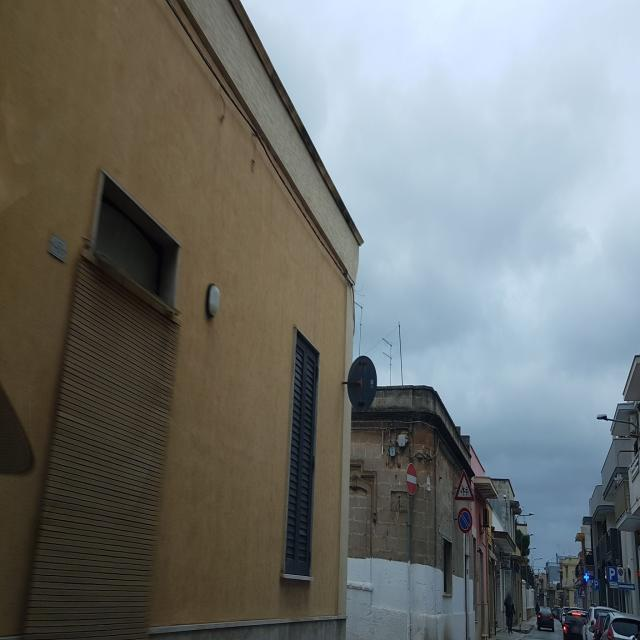forb_stopping: (457, 507, 473, 534)
